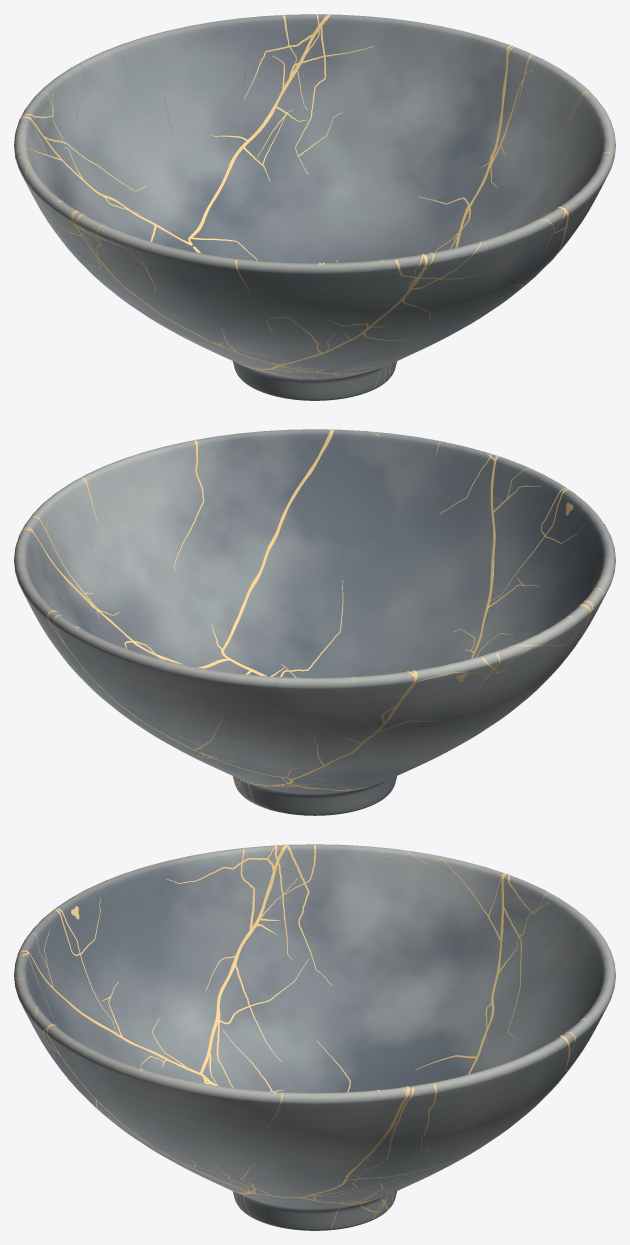
Rendered from kintsugi_site.glb.
The picture shows the model from 3 angles, top to bottom: view 1: azimuth 30°, elevation 25°; view 2: azimuth 150°, elevation 25°; view 3: azimuth 270°, elevation 25°; orthographic projection.
Parts seen in each view (by area): view 1: Bowl_Intact, Piece_02, Piece_03, Piece_07, Kintsugi_Gold, Piece_06, Piece_01, Piece_04; view 2: Bowl_Intact, Piece_06, Piece_07, Kintsugi_Gold, Piece_02, Piece_05, Piece_01, Piece_03; view 3: Bowl_Intact, Piece_04, Piece_05, Piece_07, Kintsugi_Gold, Piece_02, Piece_06, Piece_01, Piece_03.
Boxes of the visible parts, x1,y1,x2,y2 form: Bowl_Intact: (14, 14, 615, 355); Piece_02: (73, 212, 423, 365); Piece_03: (281, 227, 560, 373); Piece_07: (16, 118, 277, 368); Kintsugi_Gold: (14, 14, 609, 389); Piece_06: (21, 14, 327, 242); Piece_01: (233, 361, 396, 400); Piece_04: (552, 144, 615, 259); Bowl_Intact: (15, 429, 608, 809); Piece_06: (48, 611, 414, 764); Piece_07: (359, 607, 589, 788); Kintsugi_Gold: (16, 429, 604, 811); Piece_02: (482, 456, 615, 647); Piece_05: (14, 535, 289, 785); Piece_01: (238, 776, 396, 815); Piece_03: (286, 435, 340, 513); Bowl_Intact: (14, 844, 605, 1228); Piece_04: (48, 1031, 404, 1196); Piece_05: (303, 1039, 568, 1203); Piece_07: (389, 861, 501, 1088); Kintsugi_Gold: (14, 844, 585, 1230); Piece_02: (21, 845, 283, 1048); Piece_06: (470, 874, 615, 1083); Piece_01: (233, 1191, 387, 1230); Piece_03: (16, 990, 253, 1193).
Size of the model in its own units: 1 by 0.4217 by 1.
Materials: 3 (1 with a texture image).
